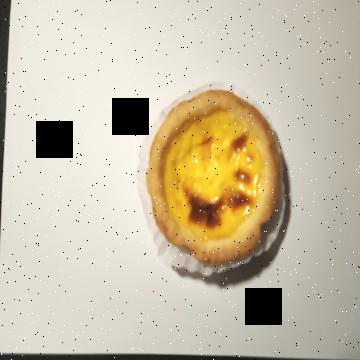EggTart: (144, 88, 281, 267)
